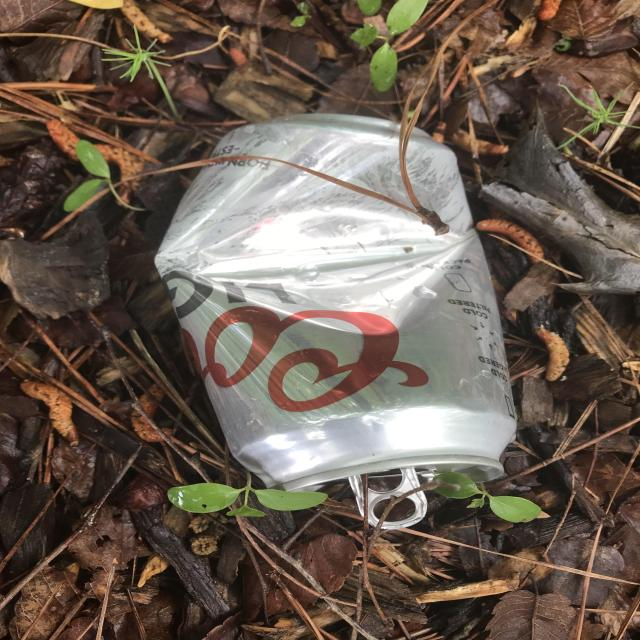litter: (159, 113, 517, 528)
